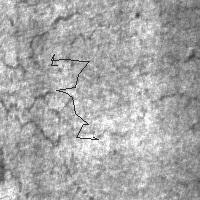crazing: (1, 7, 110, 79), (1, 72, 80, 151), (51, 54, 98, 139)
